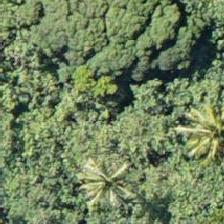coconut_tree: (67, 140, 157, 223), (160, 82, 223, 172)
